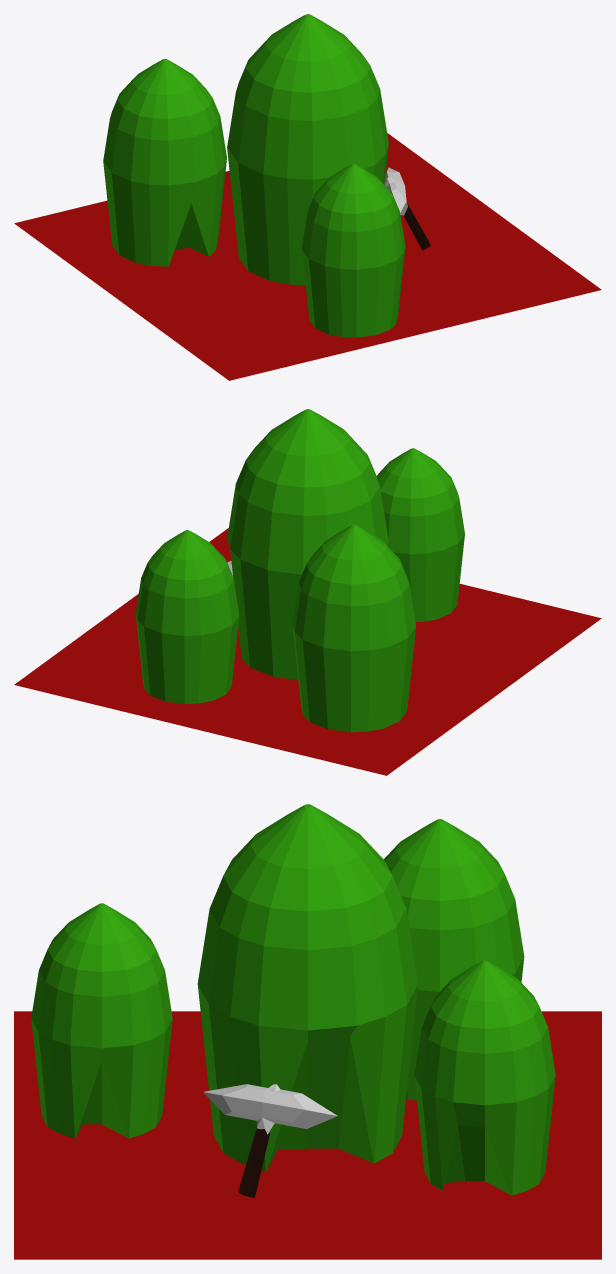
The model's file is GiantLiar.obj.
3 renders of one model, top to bottom at view 1: azimuth 30°, elevation 25°; view 2: azimuth 150°, elevation 25°; view 3: azimuth 270°, elevation 25°, orthographic. The views are drawn at different scales.
Parts seen in each view (by area): view 1: Plane.004, Plane, Plane.003, Plane.002, Cube.001_Cube.002; view 2: Plane.004, Plane, Plane.003, Plane.001, Plane.002; view 3: Plane.004, Plane, Plane.002, Plane.001, Plane.003, Cube.001_Cube.002.
Boxes of the visible parts, x1,y1,x2,y2 form: Plane.004: (14,133,601,380); Plane: (227,14,388,285); Plane.003: (103,58,226,266); Plane.002: (301,163,405,337); Cube.001_Cube.002: (384,167,430,250); Plane.004: (14,528,601,775); Plane: (227,409,388,679); Plane.003: (292,524,416,732); Plane.001: (135,530,239,704); Plane.002: (376,448,464,621); Plane.004: (14,1011,601,1259); Plane: (197,804,418,1171); Plane.002: (31,903,172,1138); Plane.001: (414,960,555,1195); Plane.003: (384,819,524,1100); Cube.001_Cube.002: (203,1084,337,1197).
Size of the model in its own units: 1.25 by 0.7797 by 1.25.
